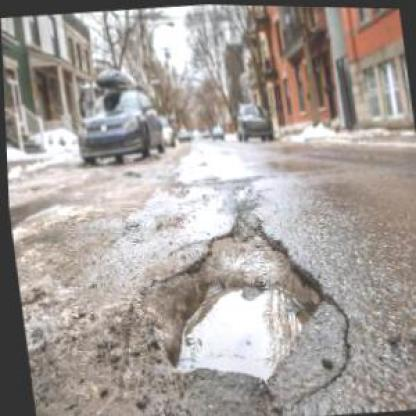pothole: (140, 215, 333, 388)
